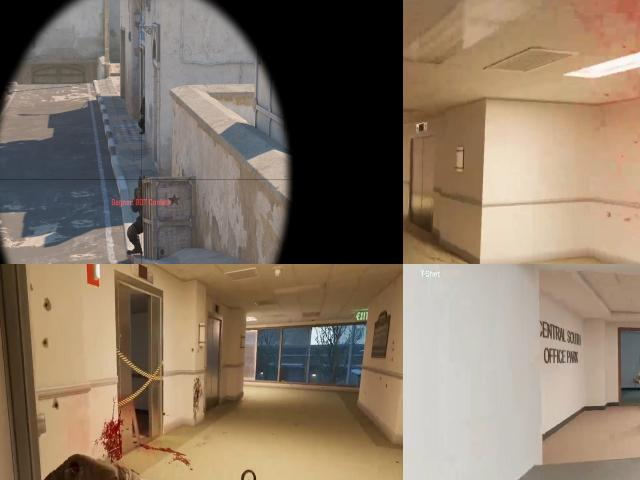CT: (132, 177, 142, 254), (140, 97, 145, 134)
CT-Head: (138, 176, 142, 188), (141, 97, 145, 102)
Dead: (45, 458, 187, 480)
T-Head: (634, 350, 640, 437), (636, 353, 640, 371)
